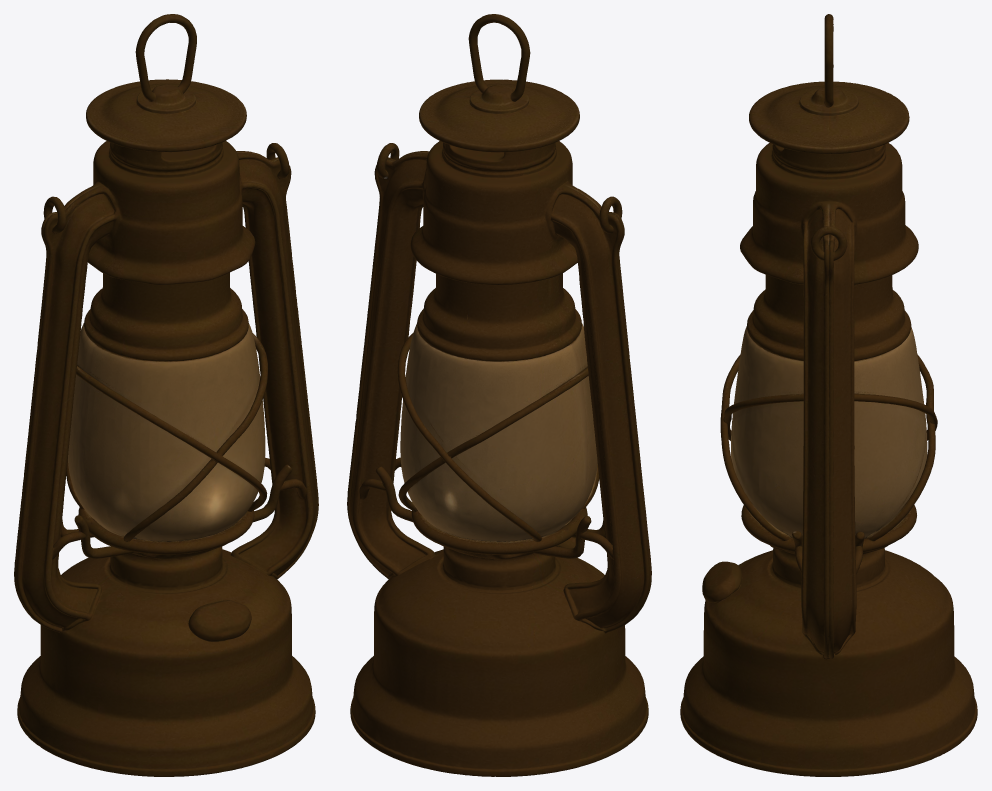
Rendered from fenjer.glb.
3 views of the same model, side by side, from view 1: azimuth 30°, elevation 25°; view 2: azimuth 150°, elevation 25°; view 3: azimuth 270°, elevation 25° (orthographic).
Size of the model in its own units: 0.8583 by 1.9 by 0.7344.
Materials: 1 (1 with a texture image).
